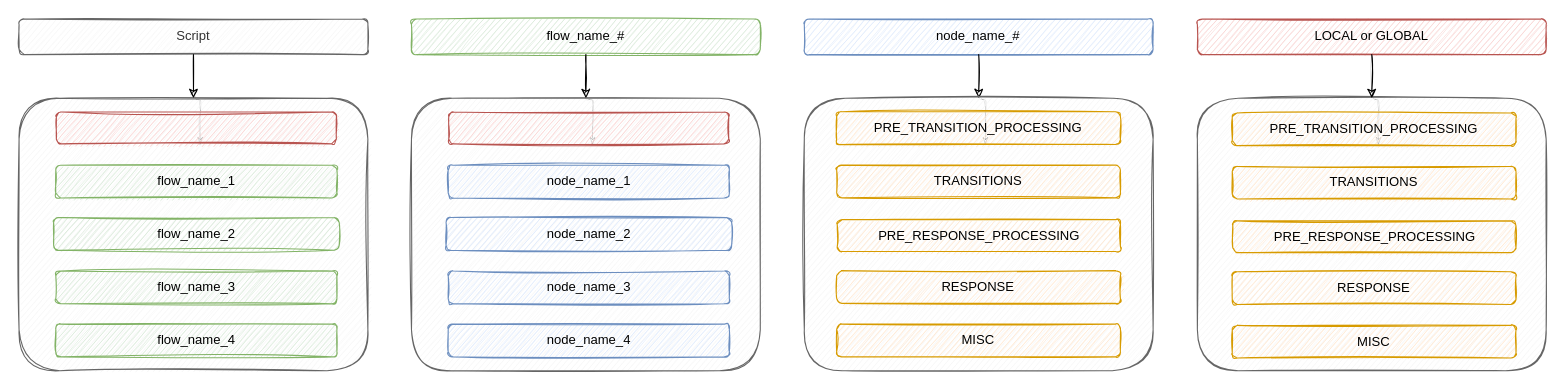
Some shapes in this 1565 by 390 pixel diagram are drawn without their labels. The centre of each missing label's shape, as x and y in pixels:
"GLOBAL" goes at [195,127].
"LOCAL" goes at [588,127].
